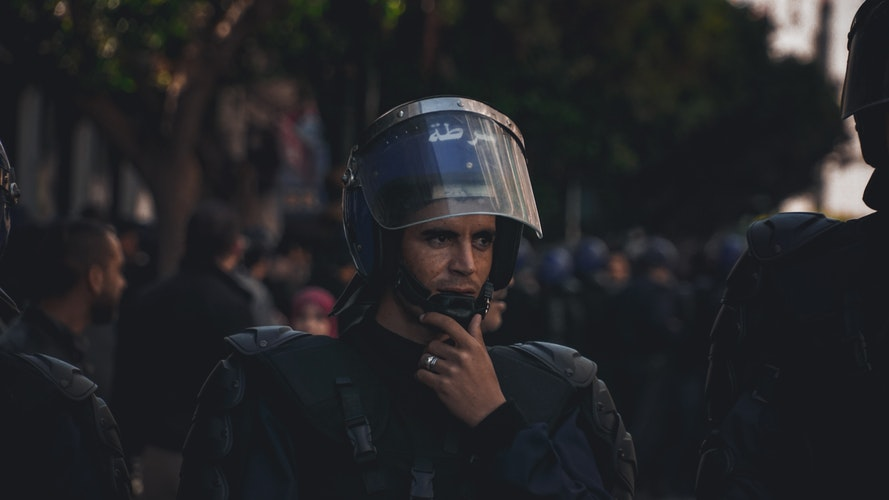helmet: (322, 77, 558, 260)
